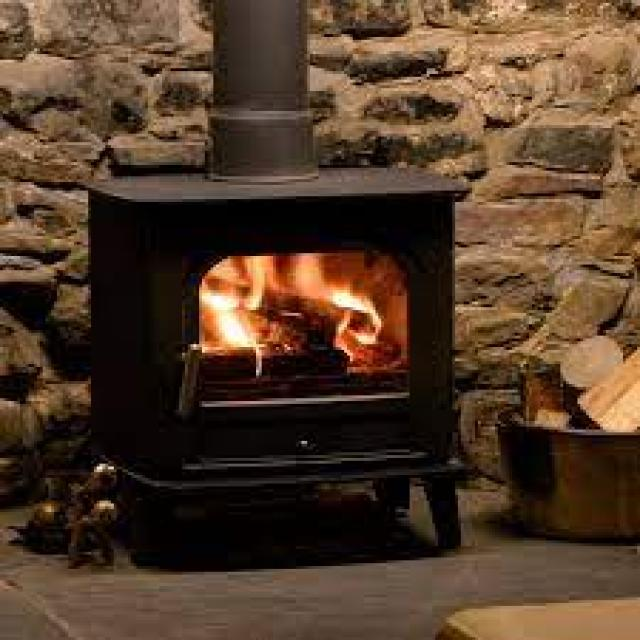fire: (204, 267, 396, 361)
